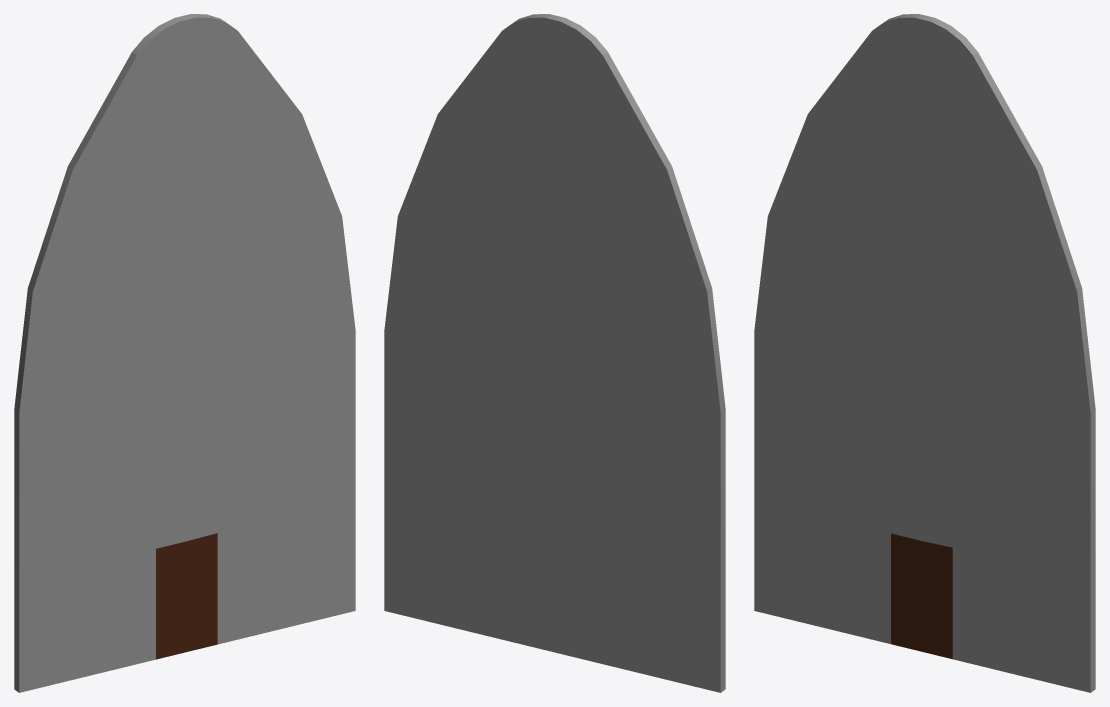
Rendered from ProtoWindmill1.fbx.
3 views of the same model, side by side, from view 1: azimuth 30°, elevation 25°; view 2: azimuth 150°, elevation 25°; view 3: azimuth 330°, elevation 25° (orthographic).
Visible parts, largest first — view 1: WindMill; view 2: WindMill; view 3: WindMill.
Boxes of the visible parts, x1,y1,x2,y2 form: WindMill: (14, 14, 355, 692); WindMill: (384, 14, 725, 692); WindMill: (754, 14, 1095, 692).
Bounding box in the file's own units: 92.71 × 166 × 2.4.
